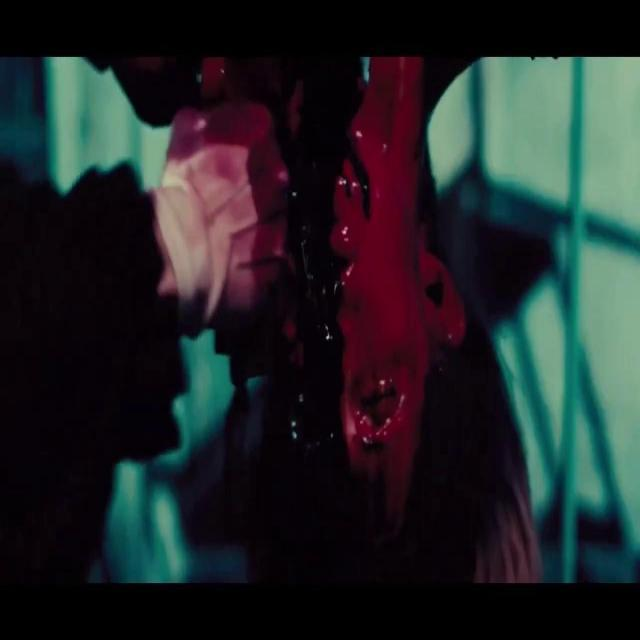flood: (264, 48, 508, 521)
